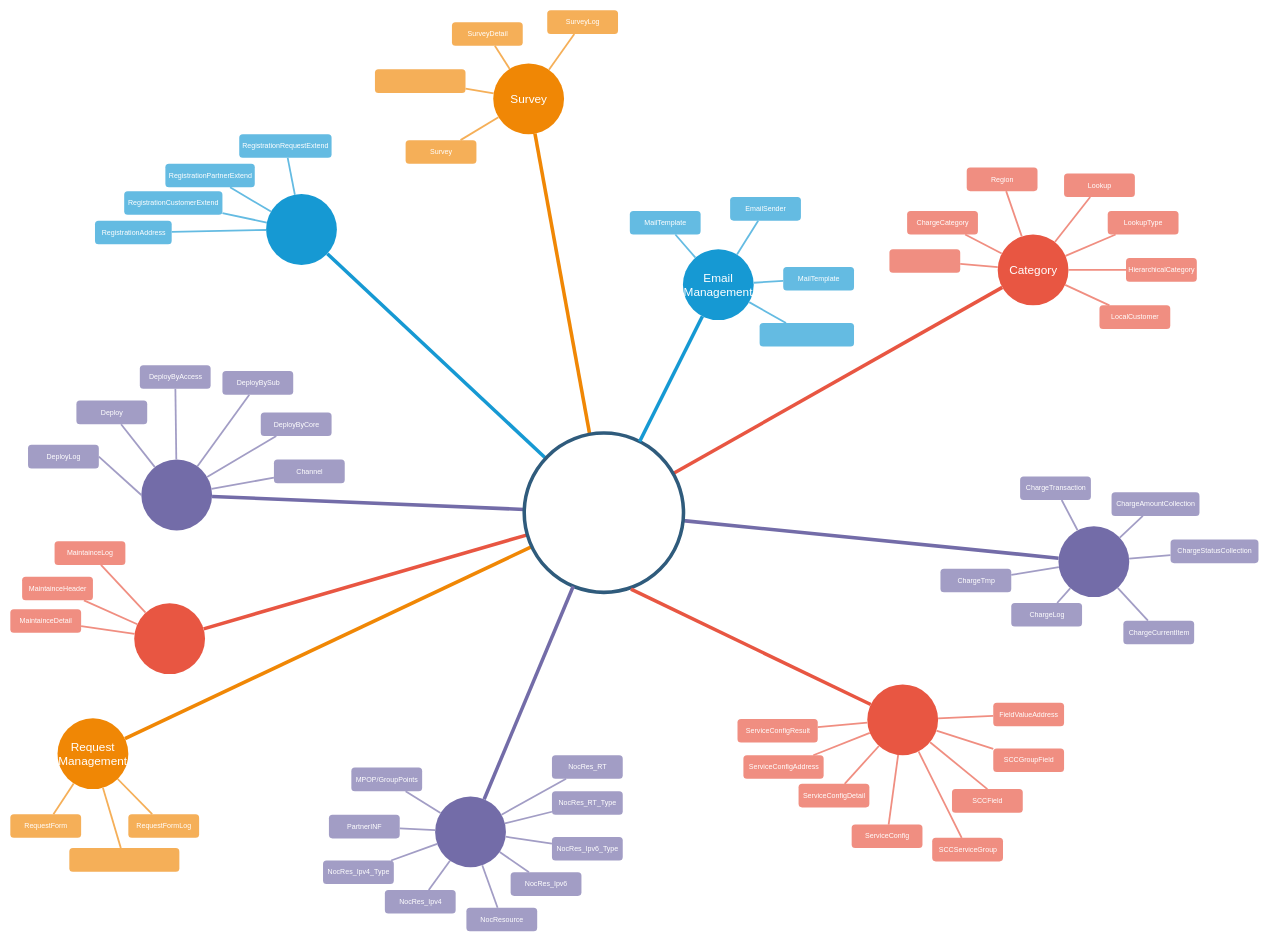
Image size: 1269x941. Some labels were removed from this diagram. Here are the shapes that lost their labels. From the top down, the centre of each, then its label:
At point 420,81: "SurveyConstructionPlan".
At point 301,229: "Registration".
At point 924,261: "Country".
At point 806,334: "MembersEmailManager".
At point 176,494: "Deployment".
At point 603,512: "Leased line database".
At point 1093,561: "Charge Management".
At point 169,638: "Maintaince".
At point 902,719: "Service Configuration".
At point 470,831: "Data convert Inside".
At point 124,859: "RequestFormChangeAddress".
